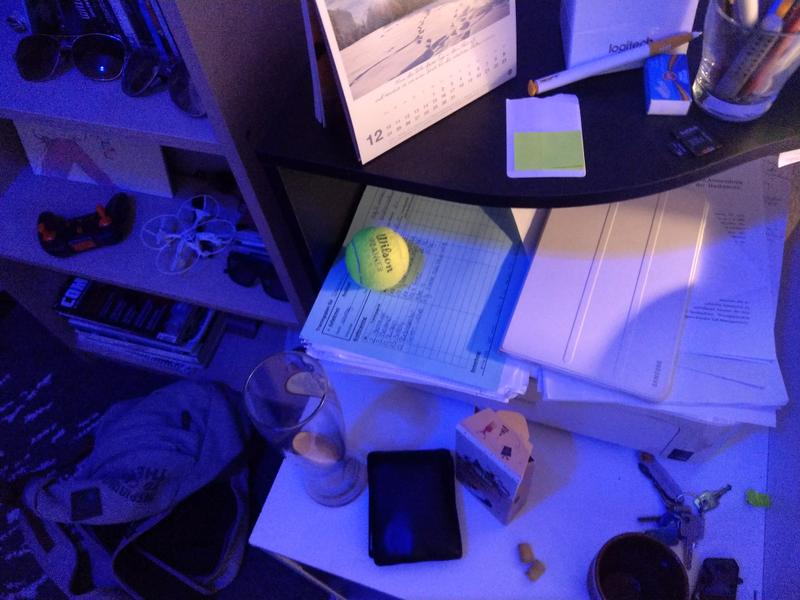Tennisball: (342, 224, 414, 296)
